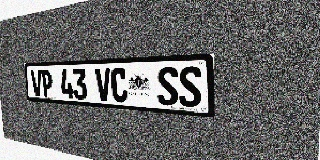3: (72, 69, 87, 100)
4: (60, 69, 74, 99)
C: (110, 68, 128, 103)
P: (41, 70, 53, 97)
S: (178, 66, 202, 108), (157, 67, 178, 106)
V: (95, 68, 112, 101), (31, 70, 43, 97)
